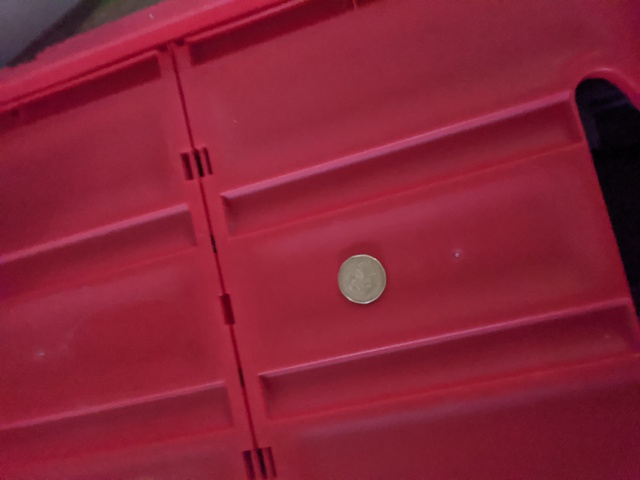loonie: (333, 244, 395, 310)
